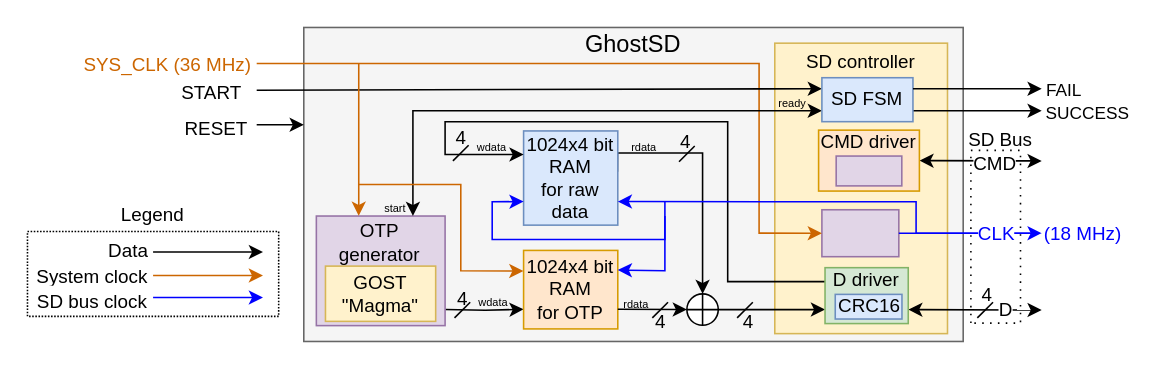
This 1156x369 diagram has some shape labels left out. The shapes that lost their labels are listed below. From the top down, each one's centre as x and y in pixels, then its label:
At [868,170]: "CRC7".
At [859,232]: "Clock divider".
